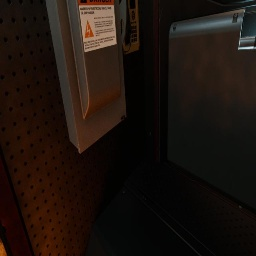EmergencyPhone ,: (121, 0, 139, 55)
SafetySwitchPanel ,: (45, 0, 127, 154)
